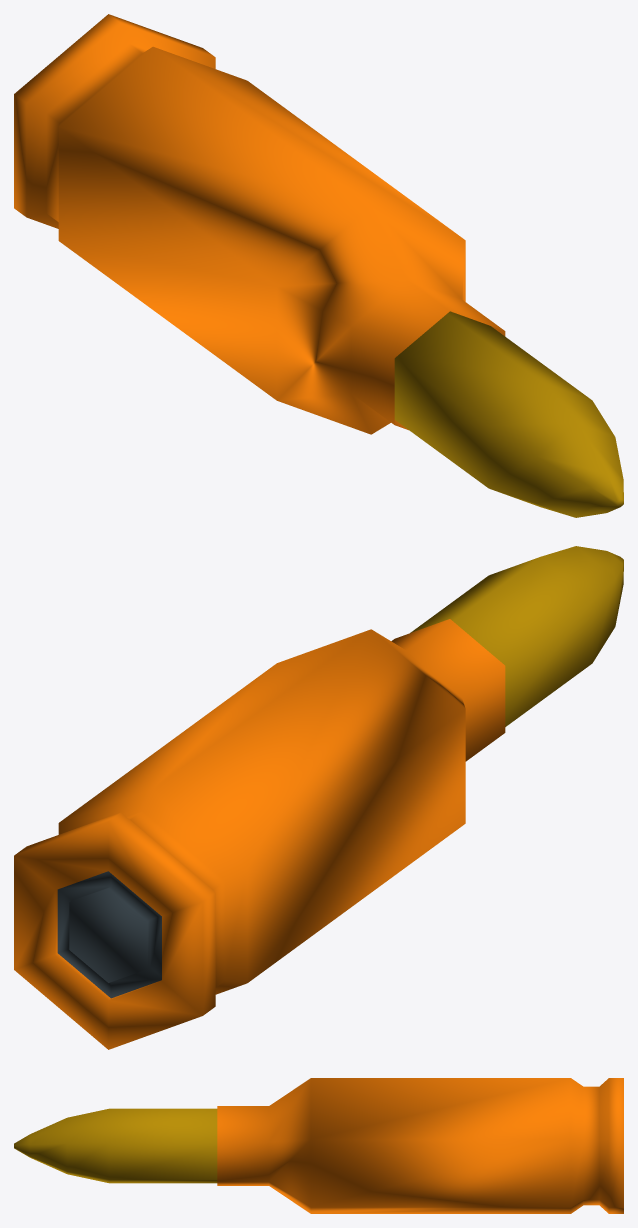
File: char_015_weapon_01_machine_gun_bullet_01_FBX.fbx
3 renders of one model, top to bottom at view 1: azimuth 30°, elevation 25°; view 2: azimuth 150°, elevation 25°; view 3: azimuth 270°, elevation 25°, orthographic. The views are drawn at different scales.
Visible parts, largest first — view 1: machine_gun_bullet_capsule.002, machine_gun_bullet; view 2: machine_gun_bullet_capsule.002, machine_gun_bullet; view 3: machine_gun_bullet_capsule.002, machine_gun_bullet.
Boxes of the visible parts, left/top/right/bottom form: machine_gun_bullet_capsule.002: left=14, top=14, right=505, bottom=434; machine_gun_bullet: left=394, top=311, right=623, bottom=517; machine_gun_bullet_capsule.002: left=14, top=619, right=505, bottom=1049; machine_gun_bullet: left=410, top=546, right=623, bottom=726; machine_gun_bullet_capsule.002: left=217, top=1078, right=623, bottom=1213; machine_gun_bullet: left=14, top=1108, right=217, bottom=1183.
Bounding box in the file's own units: 0.0461 × 0.0532 × 0.2163.
Materials: 1 (1 with a texture image).
